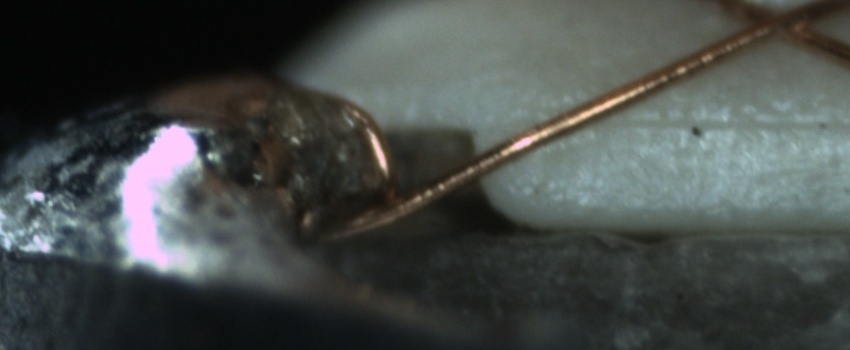CL: (718, 2, 833, 47)
DL: (566, 87, 846, 156)
TE: (336, 87, 397, 195)
